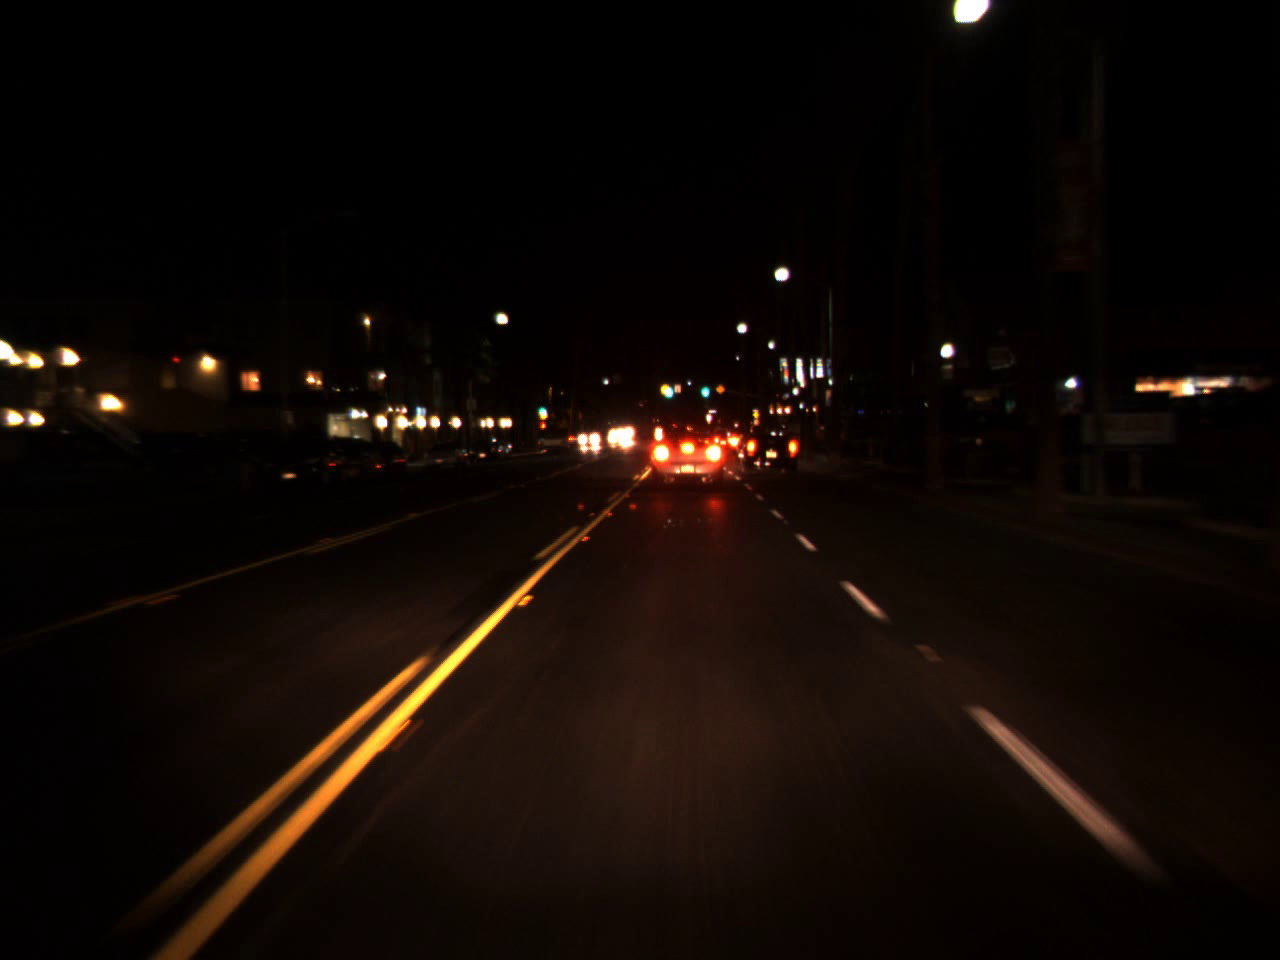go: (698, 374, 710, 401), (661, 381, 673, 402), (538, 401, 547, 416)
